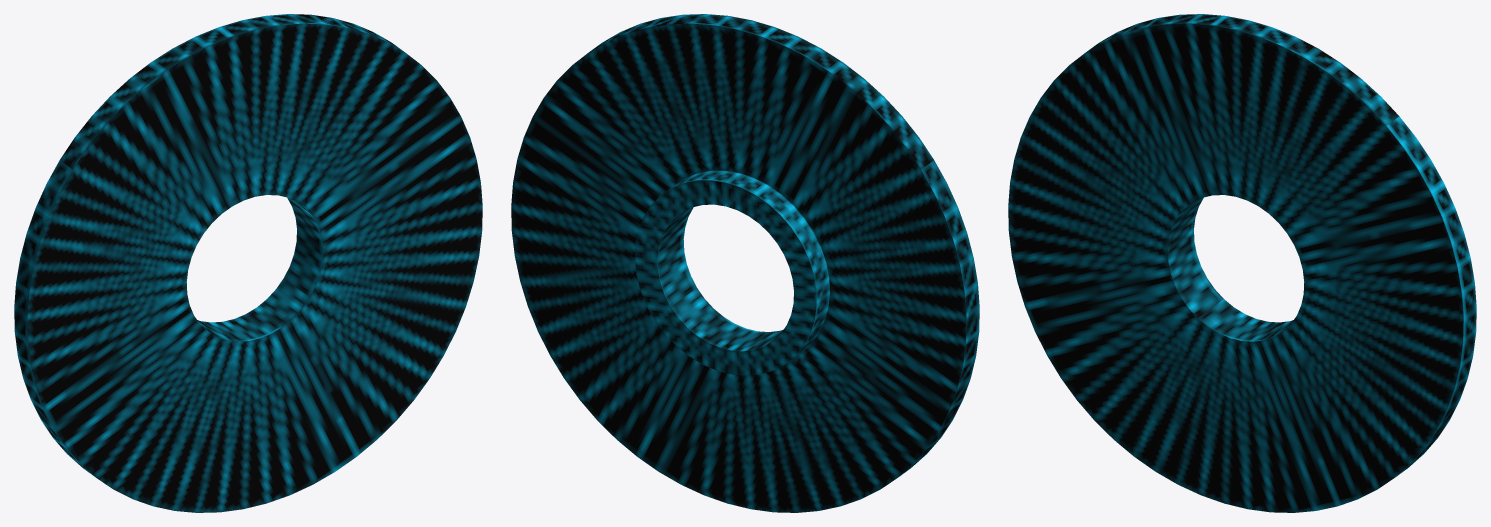
The model's file is Mold1-Locating Ring-M.glb.
3 renders of one model, left to right at view 1: azimuth 30°, elevation 25°; view 2: azimuth 150°, elevation 25°; view 3: azimuth 330°, elevation 25°, orthographic.
Parts seen in each view (by area): view 1: rondelle de centrage.001; view 2: rondelle de centrage.001; view 3: rondelle de centrage.001.
Boxes of the visible parts, bbox=[...] form: rondelle de centrage.001: bbox=[14, 14, 482, 512]; rondelle de centrage.001: bbox=[511, 14, 979, 512]; rondelle de centrage.001: bbox=[1008, 14, 1476, 512].
Size of the model in its own units: 2.35 by 2.35 by 0.2355.
1 material, 1 textured.
